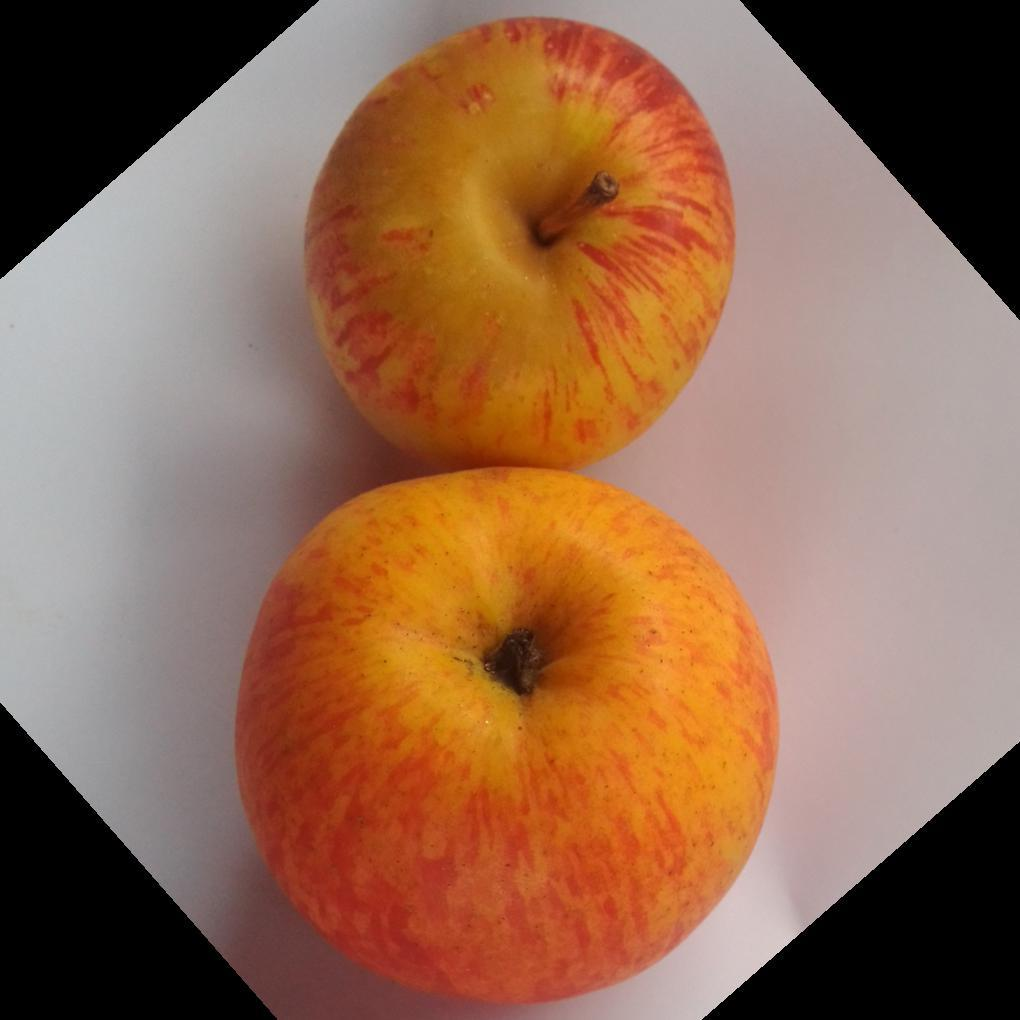FreshGuava: (233, 18, 780, 1007)
